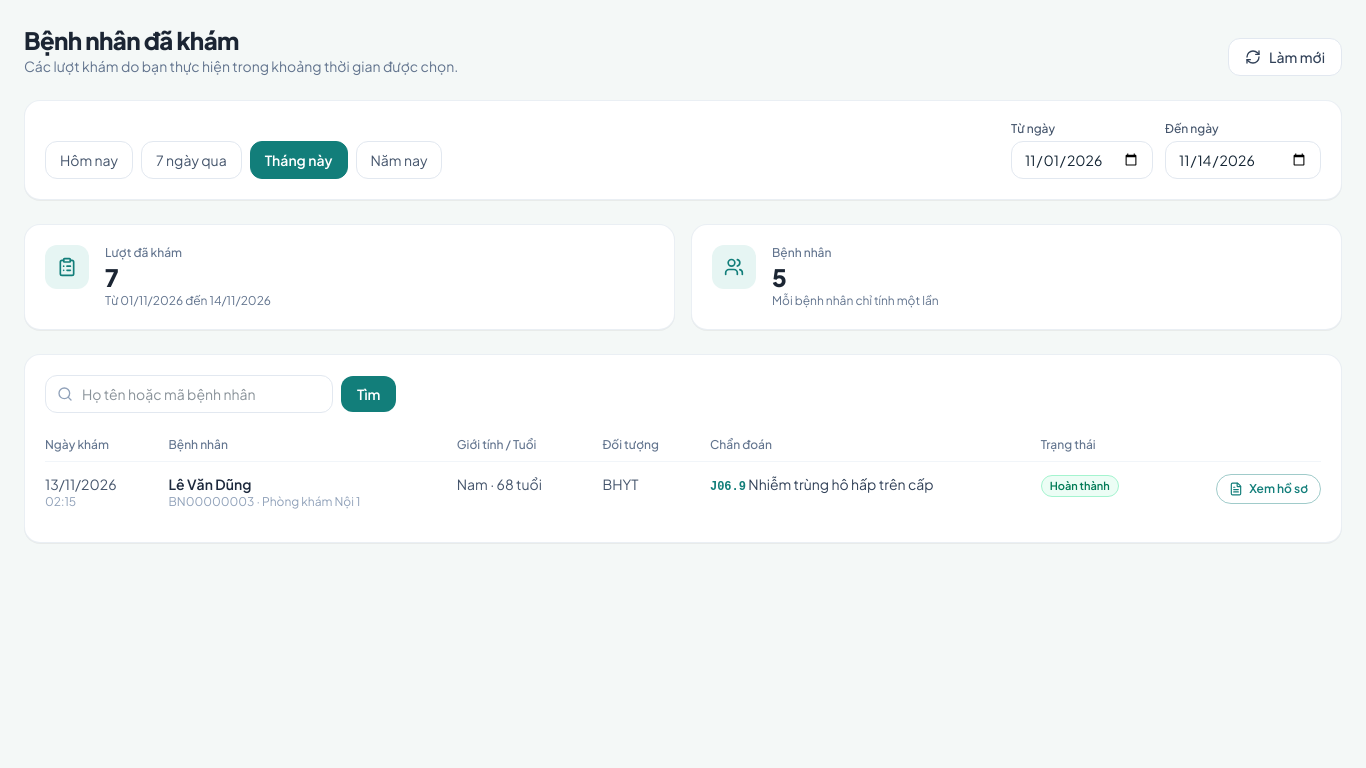
Test: ExaminedPatientsPage (UC-34) › searches by name or code from the first page
Expected: the table is shown, [45,429,1321,522]
Step 1. Type "  le van dung " into the search field named "Tìm bệnh nhân" → (189, 394), box [45,375,333,413]
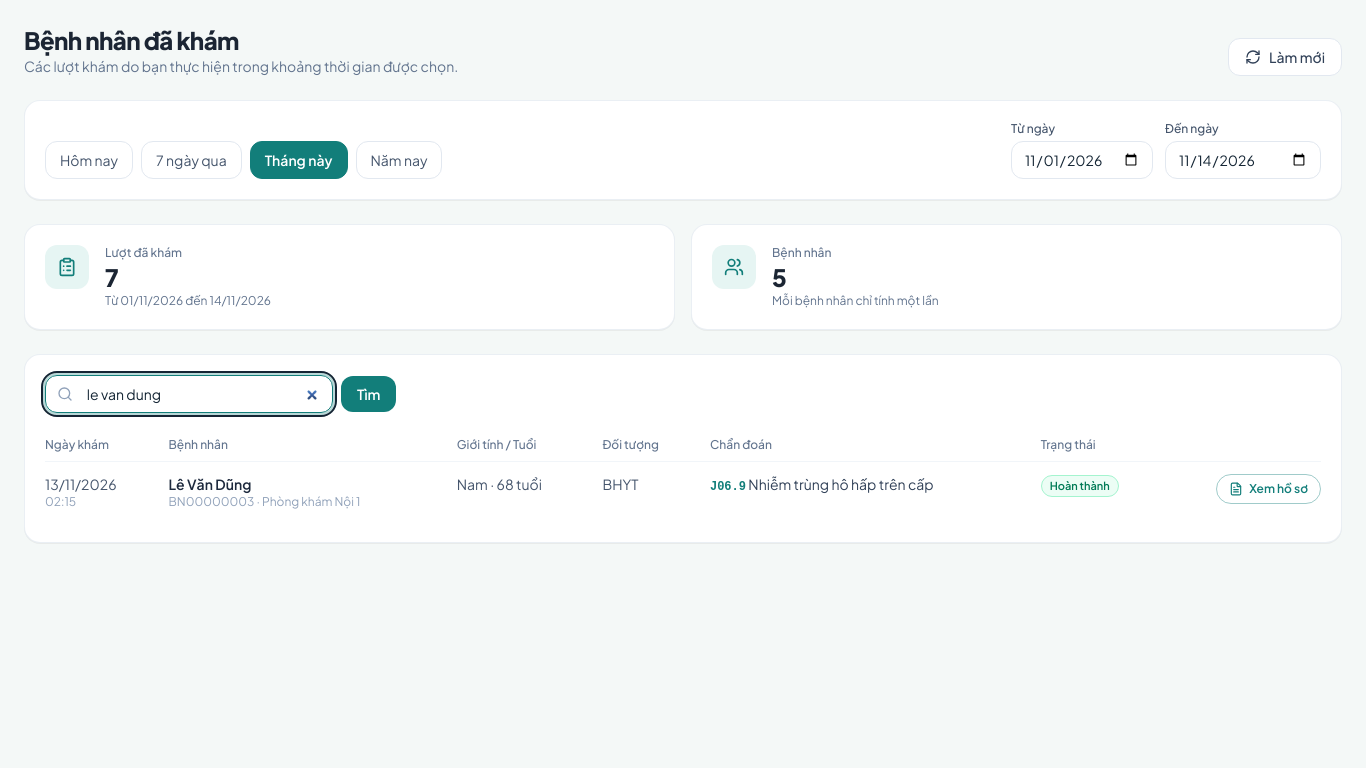
Step 2. Click the button "Tìm" → (369, 394), box [341,376,396,412]
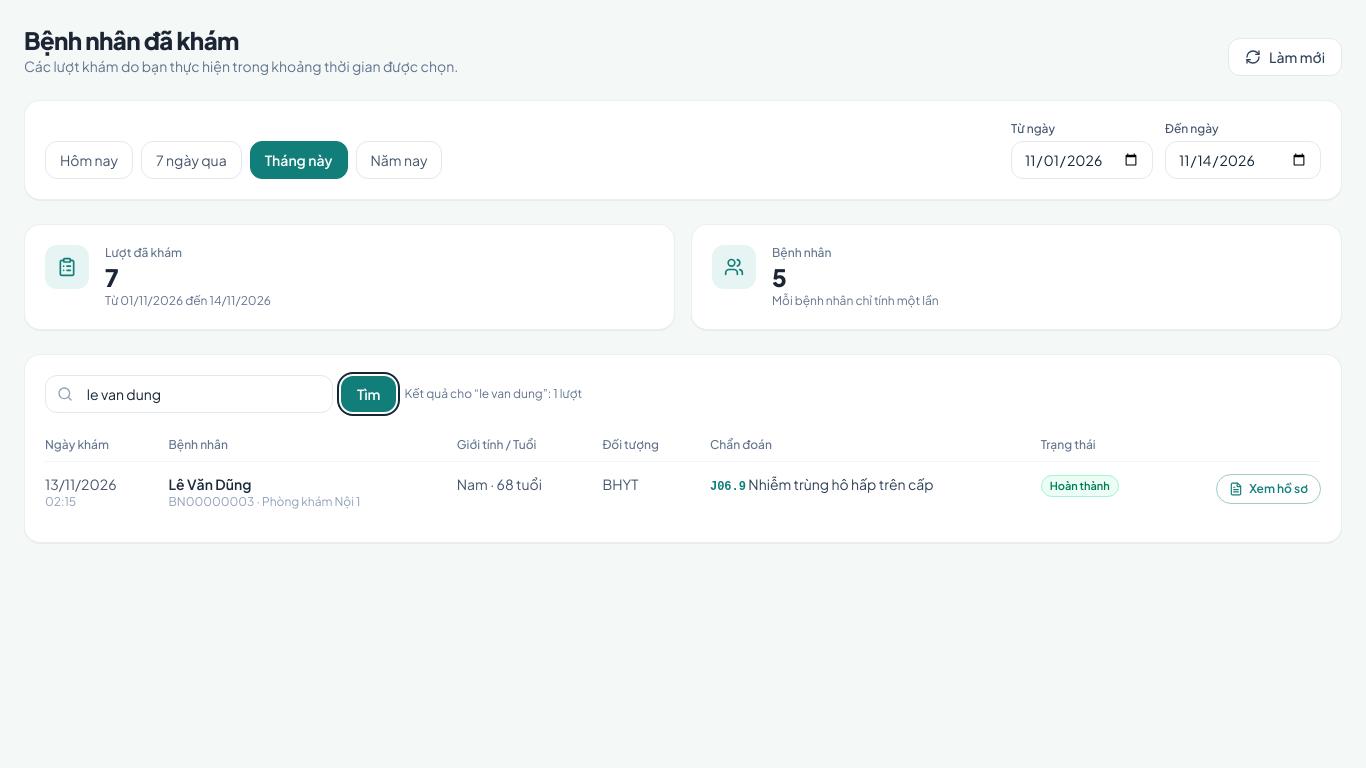
Now the text "Kết quả cho “le van dung”: 1 lượt" is shown, box [404,386,582,402]
